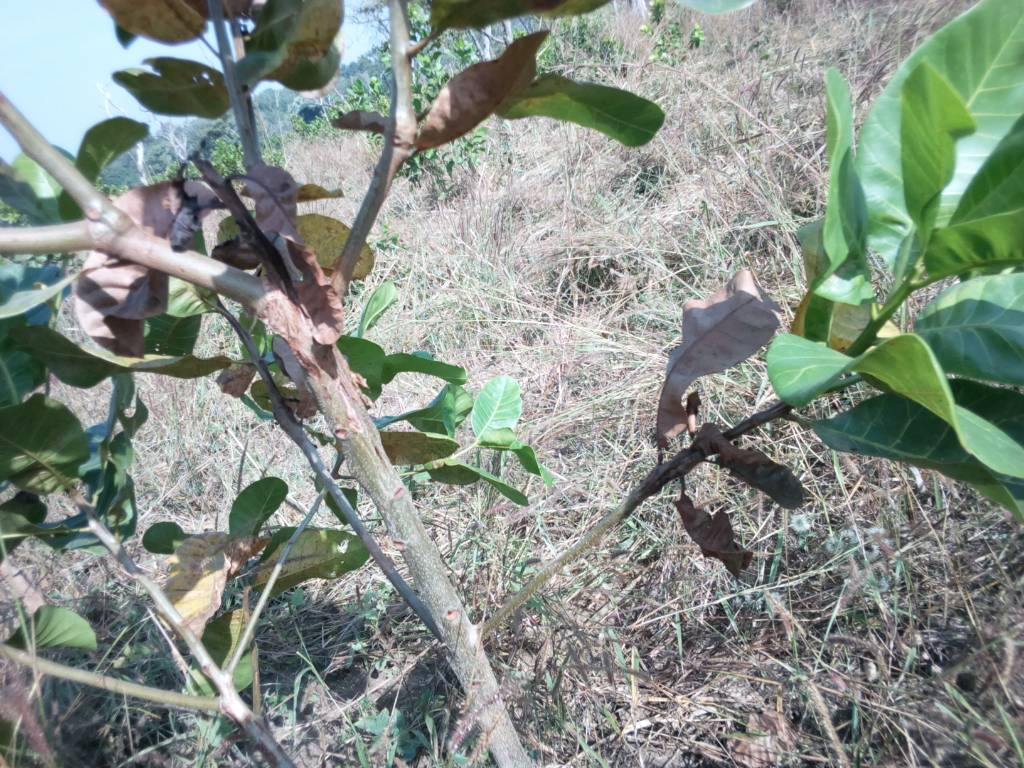Dessèchement des bourgeons: (163, 164, 358, 346), (636, 405, 783, 501)
